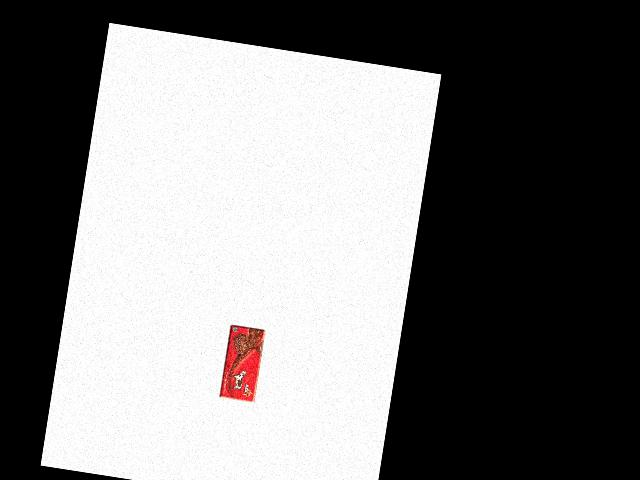chocolate: (215, 321, 267, 405)
